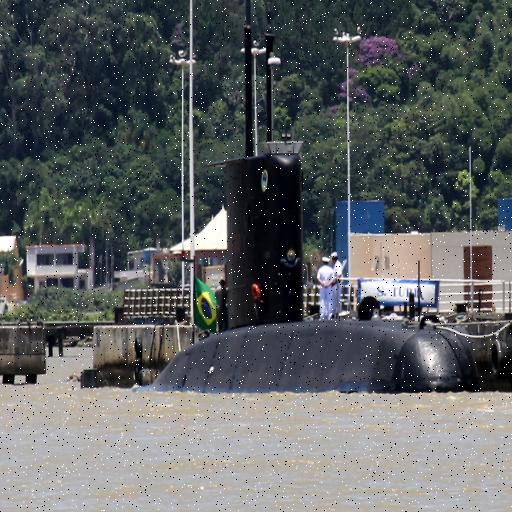submarine: (158, 1, 487, 386)
